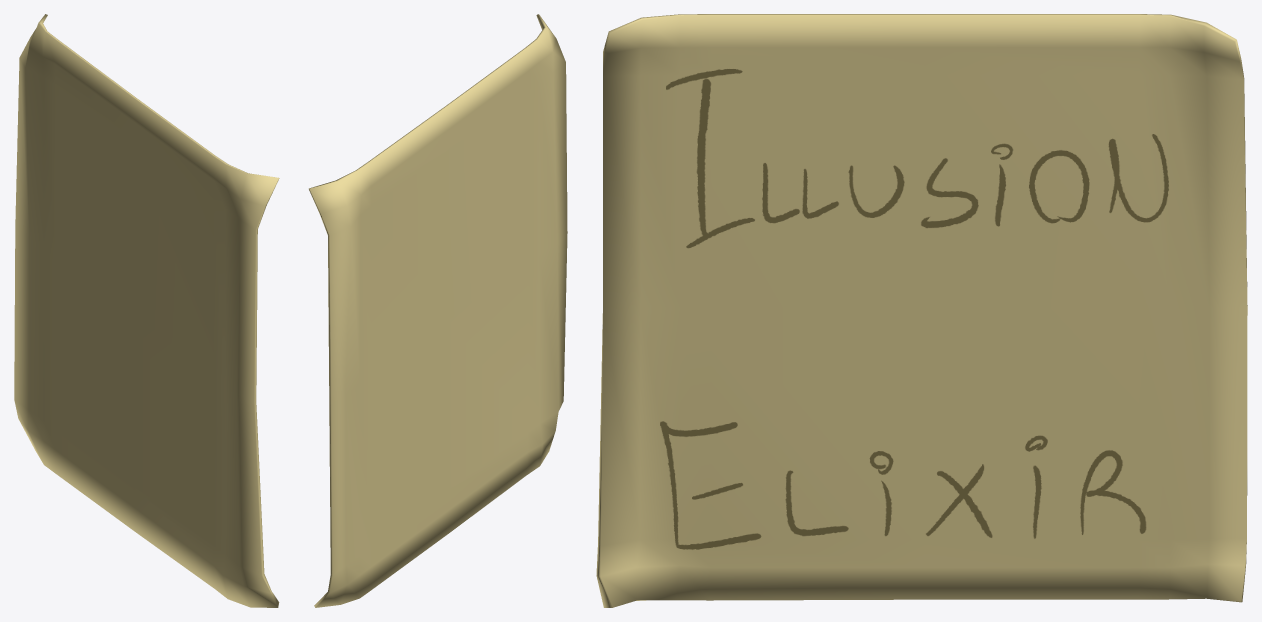
Rendered from papelIllusionElixir.fbx.
3 renders of one model, left to right at view 1: azimuth 30°, elevation 25°; view 2: azimuth 150°, elevation 25°; view 3: azimuth 270°, elevation 25°, orthographic. The views are drawn at different scales.
Visible parts, largest first — view 1: Papel; view 2: Papel; view 3: Papel.
Boxes of the visible parts, x1,y1,x2,y2 form: Papel: [14, 14, 279, 607]; Papel: [309, 14, 567, 607]; Papel: [596, 14, 1247, 607].
Size of the model in its own units: 16.28 by 200 by 202.
